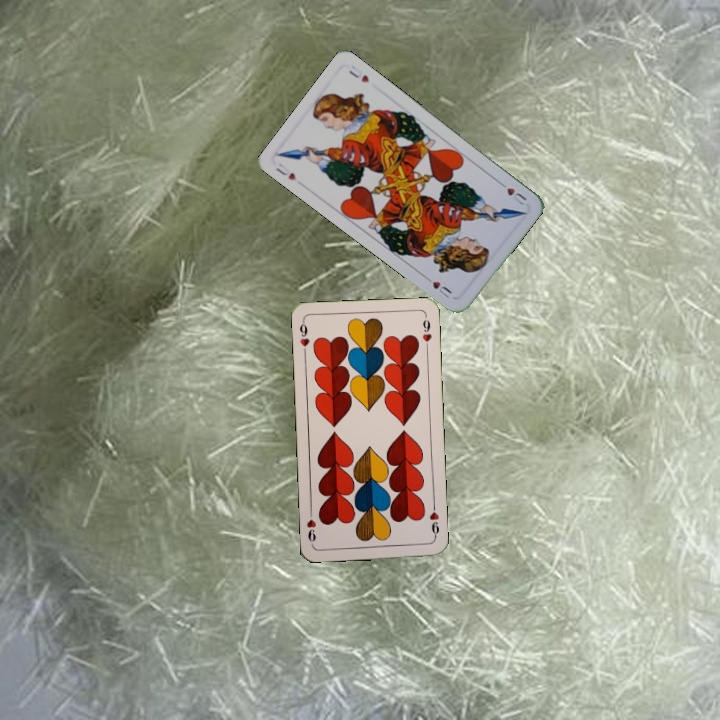H9: (295, 317, 312, 358), (426, 501, 441, 541)
HU: (494, 179, 529, 208), (272, 159, 299, 183)
